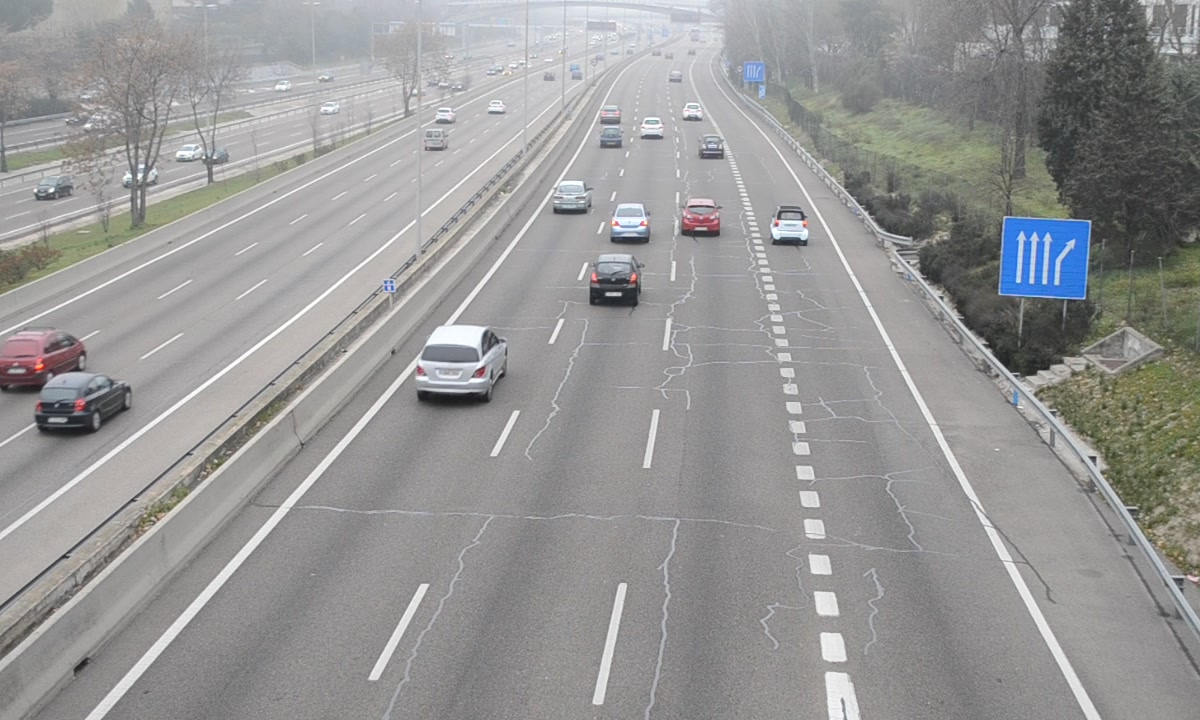car: (416, 325, 508, 398), (589, 252, 643, 305), (681, 197, 724, 239), (610, 203, 651, 244), (771, 205, 811, 246), (551, 178, 594, 214), (698, 134, 725, 161), (640, 114, 666, 140), (598, 127, 623, 150)
